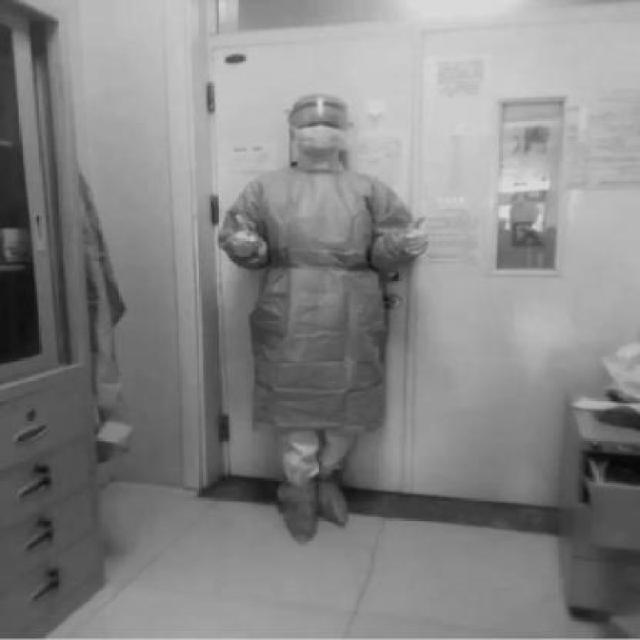face_mask: (294, 117, 344, 169)
hand_glove: (400, 215, 429, 260), (232, 216, 258, 258)
person: (217, 94, 432, 555)
shoes: (280, 477, 322, 546), (312, 479, 357, 530)
